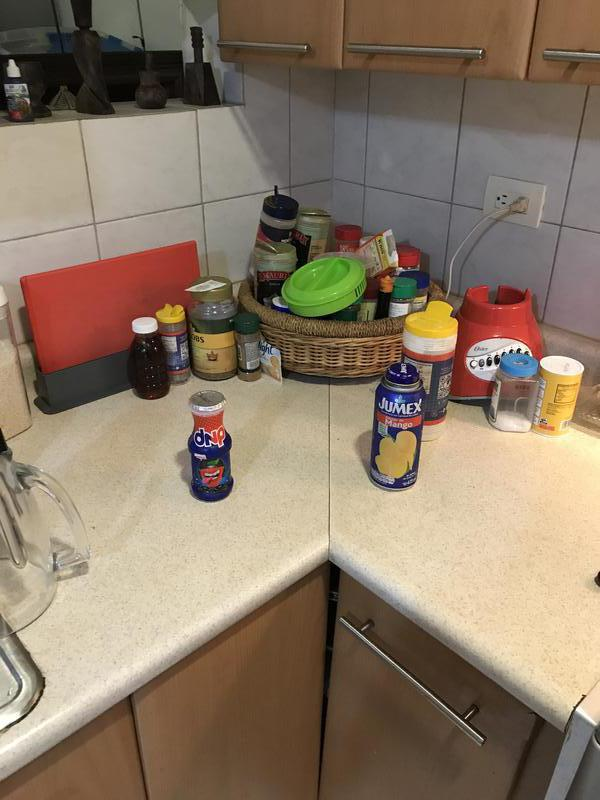danup: (186, 390, 237, 503)
jugo_jumex: (366, 363, 424, 493)
